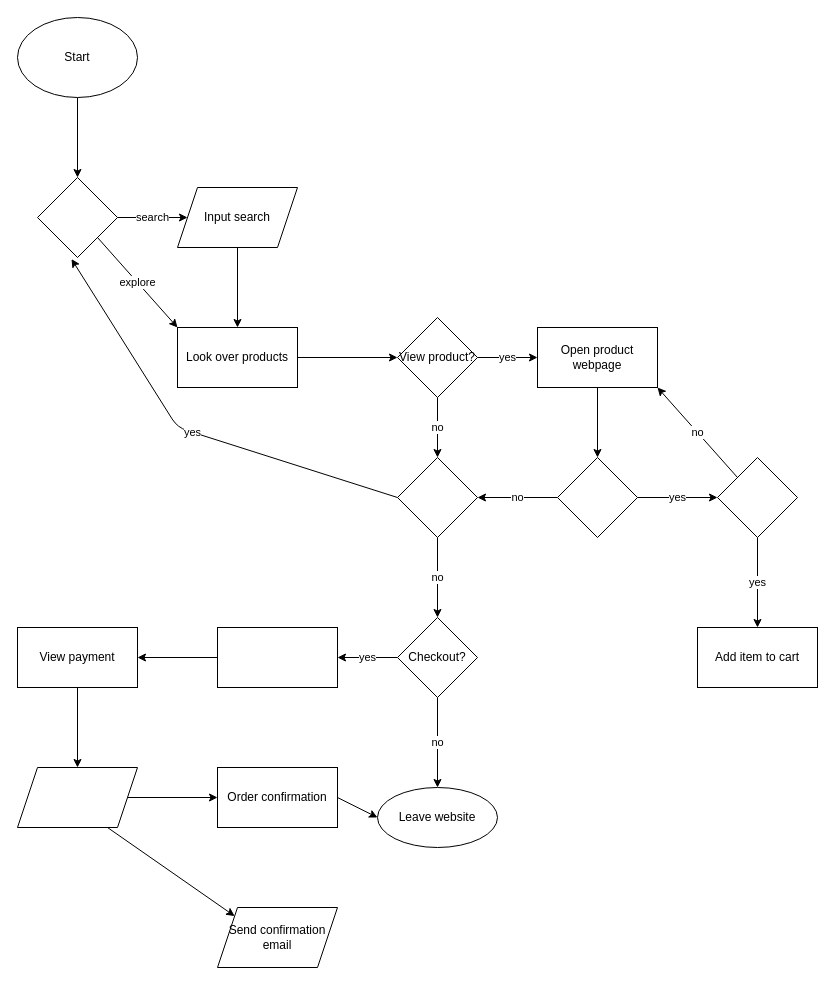
The diagram is 835 pixels wide and 985 high, and some of its shapes have lost their labels. Each missing label, with the box of its shape:
Add to cart?: (556, 456, 638, 538)
Confirm?: (716, 456, 798, 538)
Continue shopping?: (396, 456, 478, 538)
Input payment information: (16, 766, 138, 828)
Search or explore?: (36, 176, 118, 258)
View cart: (216, 626, 338, 688)
